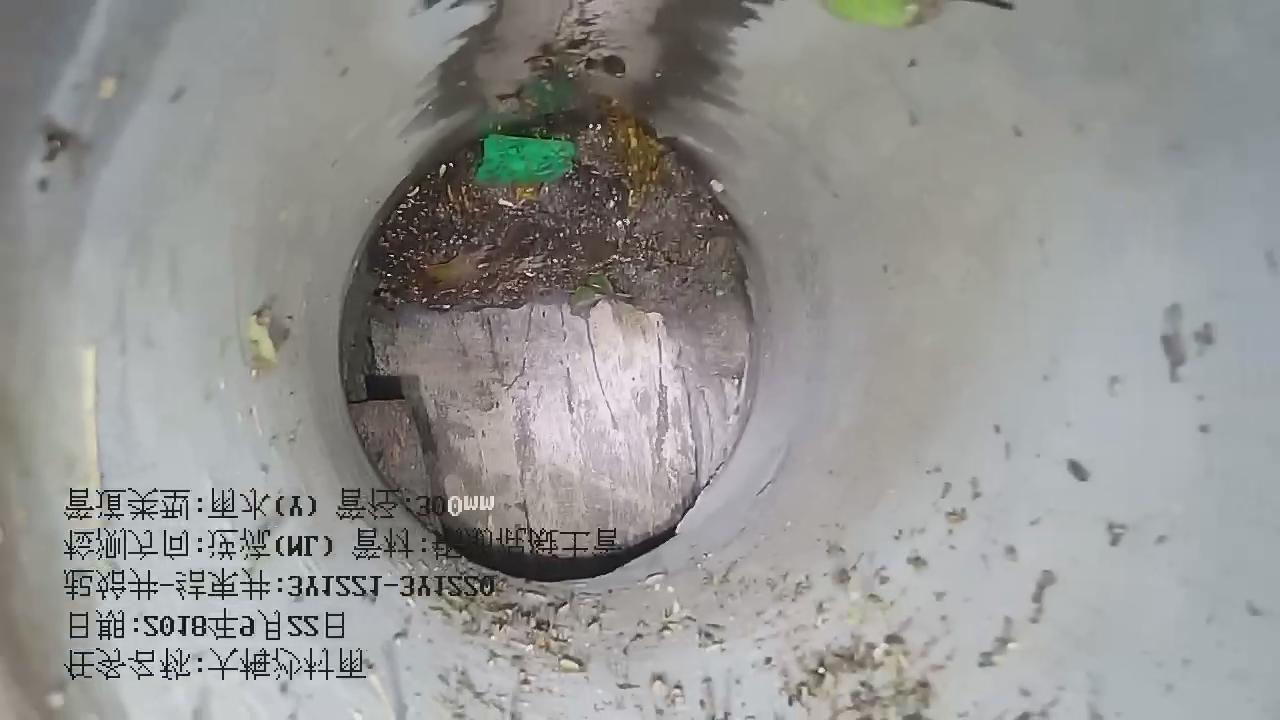CJ: (369, 109, 747, 311)
CQBG: (350, 293, 749, 580)
